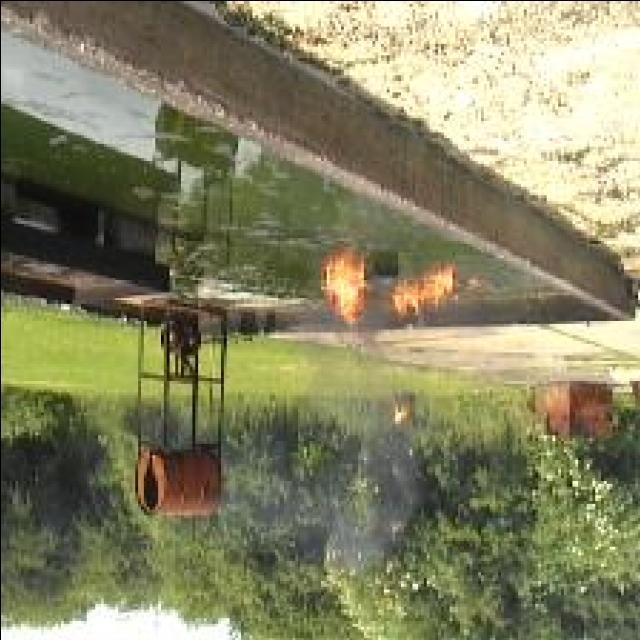Fire: (390, 269, 453, 317), (322, 252, 364, 324)
